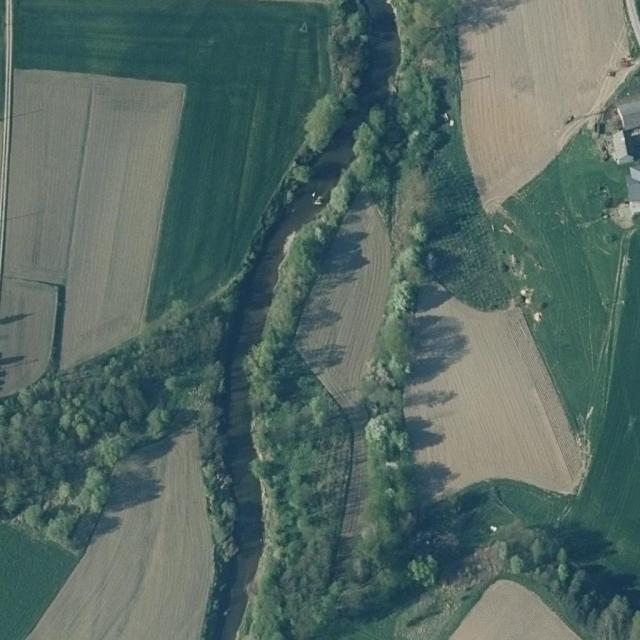agricultural_land: (0, 69, 185, 405), (26, 427, 213, 639), (404, 288, 583, 493), (280, 192, 412, 412), (0, 524, 78, 640), (449, 580, 581, 639), (348, 284, 348, 284)
building: (604, 129, 635, 169), (616, 100, 640, 133), (626, 174, 640, 215)
greenland: (333, 553, 525, 640), (211, 157, 315, 300), (191, 361, 243, 572), (514, 567, 599, 640)
wetland: (287, 120, 366, 224)
